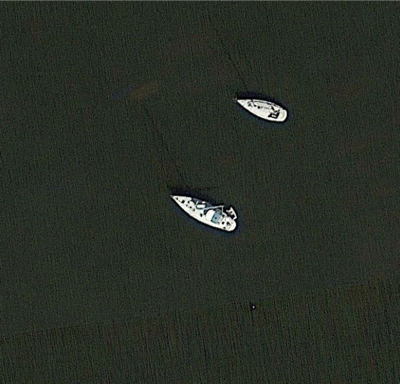boat: (168, 192, 239, 234), (229, 95, 292, 126)
